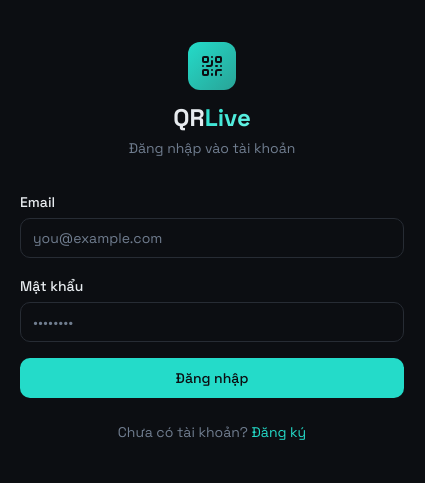
Test: Auth Page › shows normalized error for invalid credentials
Type "test@example.com" into the field labelled "Email" at (212, 238), box [20,218,404,258]
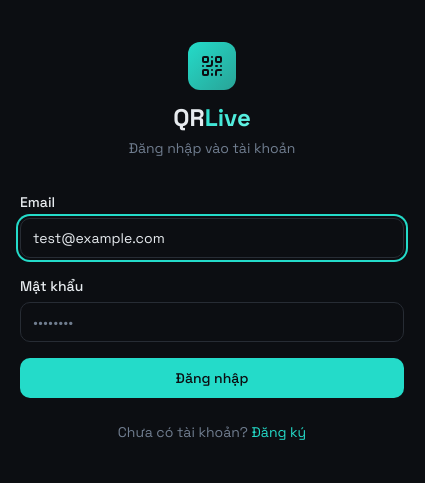
Type "wrong-pass" into the password field labelled "Mật khẩu" at (212, 322), box [20,302,404,342]
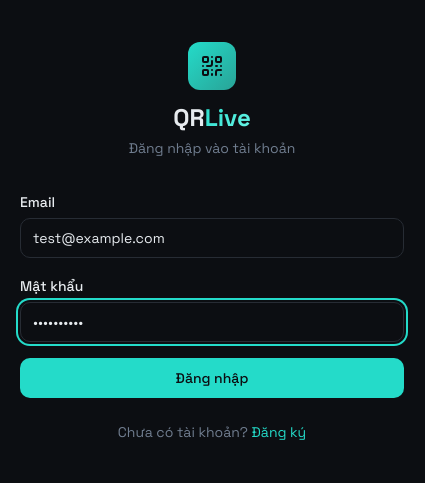
Click the button "Đăng nhập" at (212, 378), box [20,358,404,398]
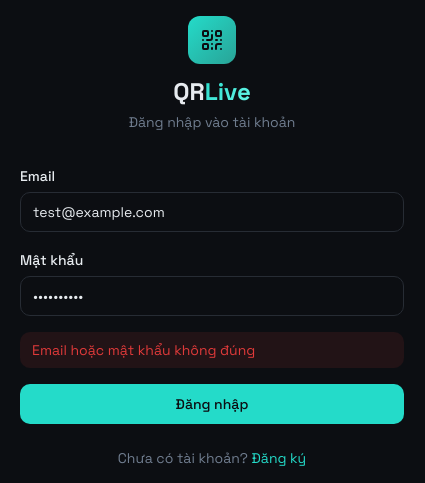
Result: the text "Email hoặc mật khẩu không đúng" is shown at [20,332,404,368]
